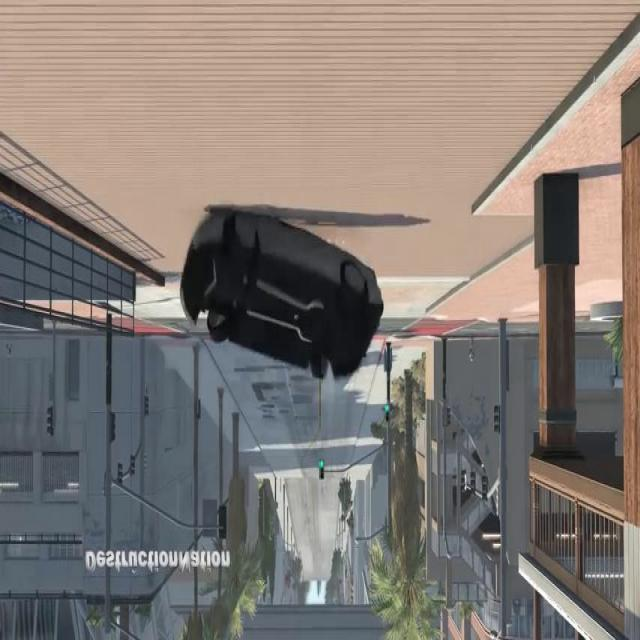severe: (172, 206, 386, 396)
